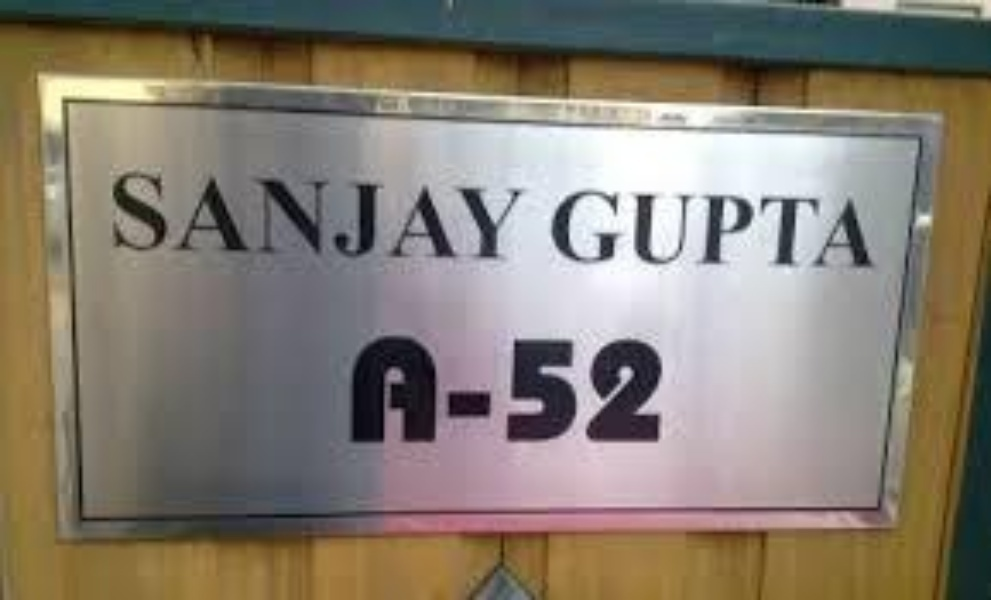text: (353, 326, 368, 450), (369, 326, 384, 450), (385, 326, 400, 450), (401, 326, 416, 450), (417, 326, 432, 450), (433, 326, 448, 450), (449, 326, 464, 450), (465, 326, 480, 450), (481, 326, 496, 450), (497, 326, 512, 450), (513, 326, 528, 450), (529, 326, 544, 450), (545, 326, 560, 450), (561, 326, 576, 450), (577, 326, 592, 450), (593, 326, 608, 450), (609, 326, 624, 450), (625, 326, 640, 450), (641, 326, 656, 450), (113, 172, 128, 261), (129, 172, 144, 261), (145, 172, 160, 261), (161, 172, 176, 261), (177, 172, 192, 261), (193, 172, 208, 261), (209, 172, 224, 261), (225, 172, 240, 261), (241, 172, 256, 261), (257, 172, 272, 261), (273, 172, 288, 261), (289, 172, 304, 261), (305, 172, 320, 261), (321, 172, 336, 261), (337, 172, 352, 261), (353, 172, 368, 261), (369, 172, 384, 261), (385, 172, 400, 261), (401, 172, 416, 261), (417, 172, 432, 261), (433, 172, 448, 261), (449, 172, 464, 261), (465, 172, 480, 261), (481, 172, 496, 261), (497, 172, 512, 261), (561, 186, 576, 275), (577, 186, 592, 275), (593, 186, 608, 275), (609, 186, 624, 275), (625, 186, 640, 275), (641, 186, 656, 275), (657, 186, 672, 275), (673, 186, 688, 275), (689, 186, 704, 275), (705, 186, 720, 275), (721, 186, 736, 275), (737, 186, 752, 275), (753, 186, 768, 275), (769, 186, 784, 275), (785, 186, 800, 275), (801, 186, 816, 275), (817, 186, 832, 275), (833, 186, 848, 275), (849, 186, 864, 275), (865, 186, 878, 275), (657, 326, 666, 450), (513, 172, 525, 261), (549, 186, 560, 275), (347, 326, 352, 450), (107, 172, 112, 261)
